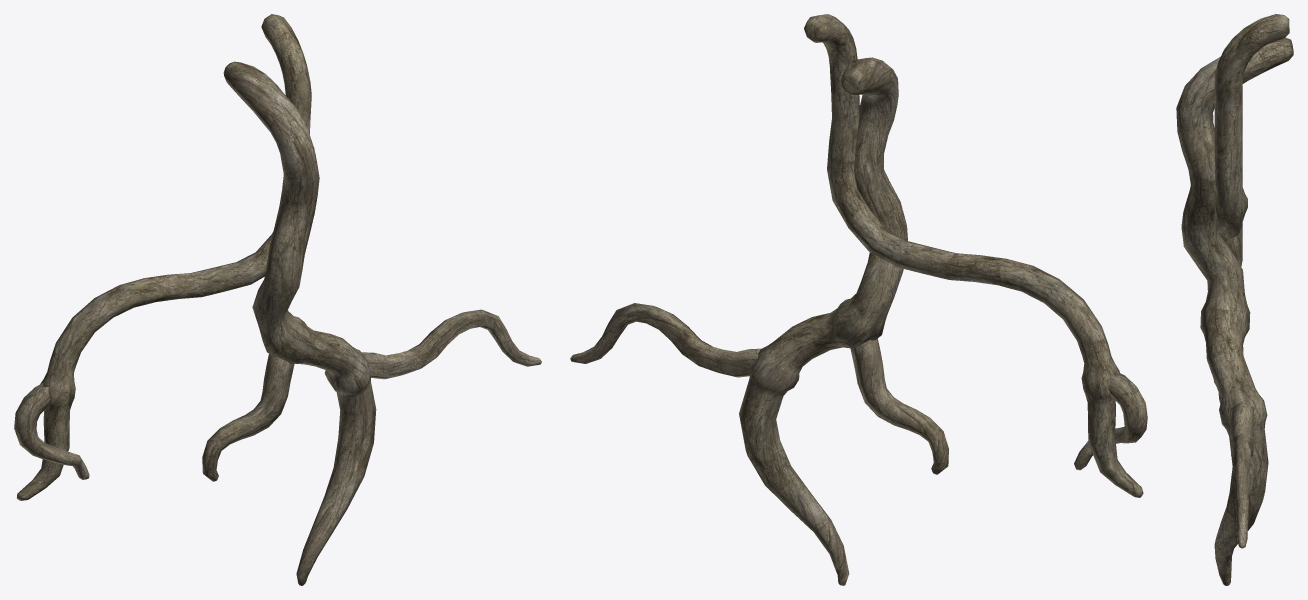
The model's file is roots_caves_02.dae.
3 views of the same model, side by side, from view 1: azimuth 30°, elevation 25°; view 2: azimuth 150°, elevation 25°; view 3: azimuth 270°, elevation 25° (orthographic). The views are drawn at different scales.
Visible parts, largest first — view 1: 02; view 2: 02; view 3: 02.
Boxes of the visible parts, <box> form: 02: <box>14,14,541,585</box>; 02: <box>570,14,1147,585</box>; 02: <box>1176,14,1293,585</box>.
Bounding box in the file's own units: 2.6 × 2.59 × 0.482.
